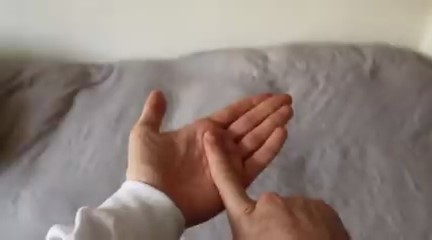L: (112, 75, 360, 240)
